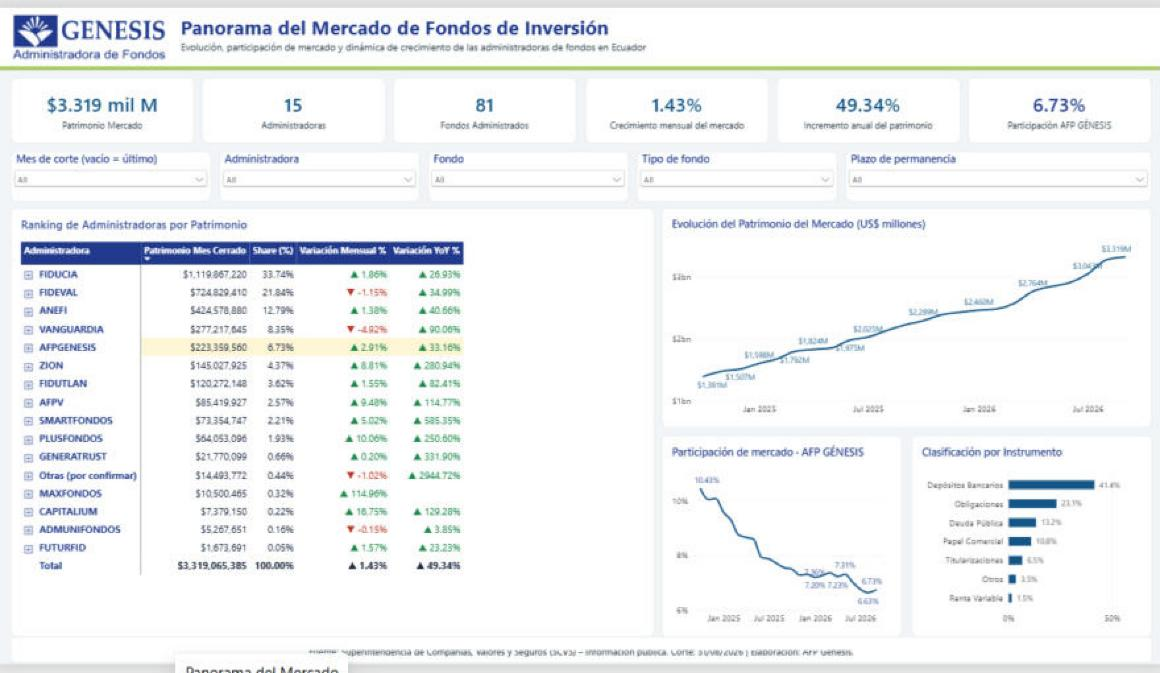

What the dashboard file says about the page in this screenshot:
{"tool":"powerbi","page":{"name":"Panorama del Mercado","canvas":[1920,1080],"ordinal":0},"visuals":[{"type":"textbox","box":[0,0,1920,96],"z":0},{"type":"image","box":[24,12,250,72],"z":1},{"type":"textbox","box":[300,10,1300,48],"z":2},{"type":"textbox","box":[300,54,1300,34],"z":3},{"type":"textbox","box":[0,96,1920,6],"z":4},{"type":"card","fields":{"Values":["Patrimonio.Patrimonio Mercado (mil M)"]},"box":[20,116,302,108],"z":10},{"type":"card","fields":{"Values":["Patrimonio.Nº Administradoras"]},"box":[336,116,302,108],"z":11},{"type":"card","fields":{"Values":["Patrimonio.Nº Fondos"]},"box":[651,116,302,108],"z":12},{"type":"card","fields":{"Values":["Patrimonio.Crecimiento Mensual Mercado %"]},"box":[967,116,302,108],"z":13},{"type":"card","fields":{"Values":["Patrimonio.Crecimiento Anual Mercado %"]},"box":[1283,116,302,108],"z":14},{"type":"card","fields":{"Values":["Patrimonio.Share AFPGENESIS %"]},"box":[1598,116,302,108],"z":15},{"type":"slicer","fields":{"Values":["Meses.Mes"]},"box":[20,236,330,82],"z":20},{"type":"slicer","fields":{"Values":["Fondos.Administradora"]},"box":[364,236,330,82],"z":21},{"type":"slicer","fields":{"Values":["Fondos.Fondo"]},"box":[708,236,330,82],"z":22},{"type":"slicer","fields":{"Values":["Fondos.Tipo de fondo"]},"box":[1052,236,330,82],"z":23},{"type":"slicer","fields":{"Values":["Fondos.Plazo de permanencia"]},"box":[1396,236,504,82],"z":24},{"type":"pivotTable","title":"Ranking de Administradoras por Patrimonio","fields":{"Rows":["Fondos.Administradora","Fondos.Fondo"],"Values":["Patrimonio.Patrimonio Total","Patrimonio.Share %","Patrimonio.Variación Mensual %","Patrimonio.Variación Anual %"]},"box":[20,330,1060,706],"z":30},{"type":"lineChart","title":"Evolución del Patrimonio del Mercado (US$ millones)","fields":{"Category":["Meses.Fecha"],"Y":["Patrimonio.Patrimonio (últimos 24 meses)"]},"box":[1094,330,806,362],"z":40},{"type":"lineChart","title":"Participación de mercado · AFP GÉNESIS","fields":{"Category":["Meses.Fecha"],"Y":["Patrimonio.Share AFPGENESIS (últimos 24 meses)"]},"box":[1094,704,396,332],"z":41},{"type":"clusteredBarChart","title":"Clasificación por Instrumento","fields":{"Category":["Composicion.Grupo de instrumento"],"Y":["Composicion.% del Portafolio"]},"box":[1504,704,396,332],"z":42},{"type":"card","fields":{"Values":["Patrimonio.Texto Corte"]},"box":[20,1036,1880,42],"z":90}]}

Visuals, with their boxes on the page's 1920x1080 design canvas (x1, y1, x2, y2). These are canvas units, not pixel positions in the 1160x673 screenshot, which may show the page scaled, cropped or inside an application window:
textbox: bbox=(0, 0, 1920, 96)
image: bbox=(24, 12, 274, 84)
textbox: bbox=(300, 10, 1600, 58)
textbox: bbox=(300, 54, 1600, 88)
textbox: bbox=(0, 96, 1920, 102)
card - Patrimonio.Patrimonio Mercado (mil M): bbox=(20, 116, 322, 224)
card - Patrimonio.Nº Administradoras: bbox=(336, 116, 638, 224)
card - Patrimonio.Nº Fondos: bbox=(651, 116, 953, 224)
card - Patrimonio.Crecimiento Mensual Mercado %: bbox=(967, 116, 1269, 224)
card - Patrimonio.Crecimiento Anual Mercado %: bbox=(1283, 116, 1585, 224)
card - Patrimonio.Share AFPGENESIS %: bbox=(1598, 116, 1900, 224)
slicer - Meses.Mes: bbox=(20, 236, 350, 318)
slicer - Fondos.Administradora: bbox=(364, 236, 694, 318)
slicer - Fondos.Fondo: bbox=(708, 236, 1038, 318)
slicer - Fondos.Tipo de fondo: bbox=(1052, 236, 1382, 318)
slicer - Fondos.Plazo de permanencia: bbox=(1396, 236, 1900, 318)
"Ranking de Administradoras por Patrimonio" pivotTable: bbox=(20, 330, 1080, 1036)
"Evolución del Patrimonio del Mercado (US$ millones)" lineChart: bbox=(1094, 330, 1900, 692)
"Participación de mercado · AFP GÉNESIS" lineChart: bbox=(1094, 704, 1490, 1036)
"Clasificación por Instrumento" clusteredBarChart: bbox=(1504, 704, 1900, 1036)
card - Patrimonio.Texto Corte: bbox=(20, 1036, 1900, 1078)
